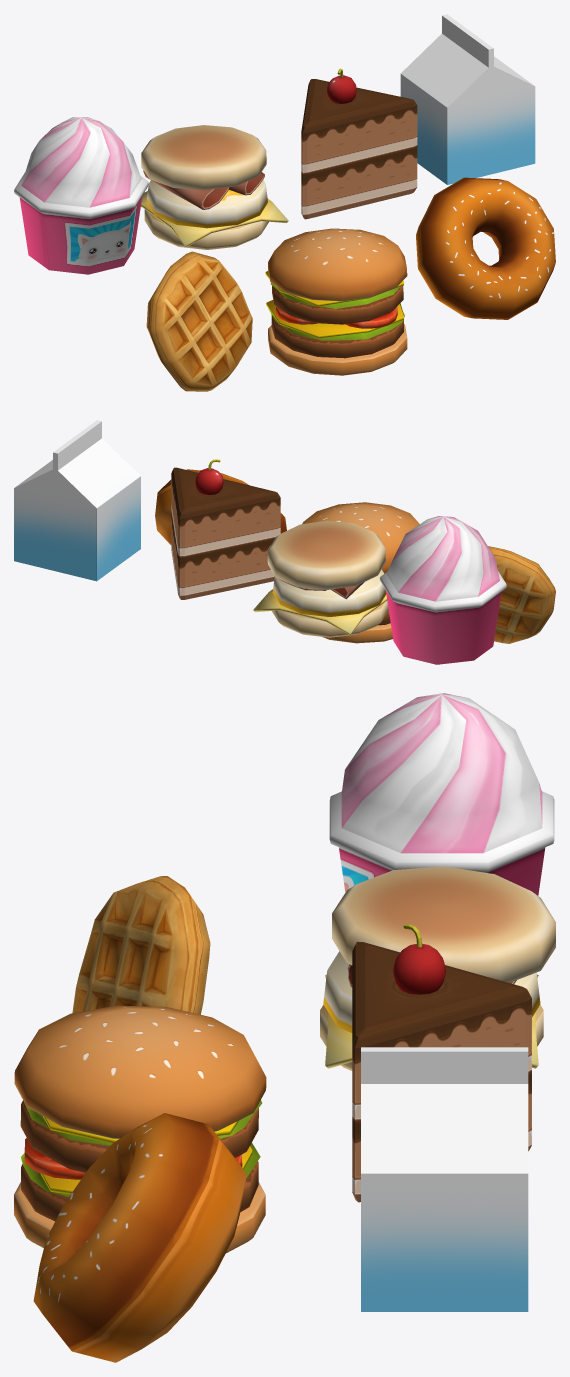
Rendered from 3d_bakery_object.glb.
The picture shows the model from 3 angles, top to bottom: view 1: azimuth 30°, elevation 25°; view 2: azimuth 150°, elevation 25°; view 3: azimuth 270°, elevation 25°; orthographic projection. The views are drawn at different scales.
Visible parts, largest first — view 1: Hambuger_Hambuger_0, IceCream_icecream_0, Milk_Milk_0, Donuts_Donuts_0, Hamegg_Hamegg_0, Cake_Cake_0, Waffle_Waffle_0; view 2: Milk_Milk_0, IceCream_icecream_0, Hamegg_Hamegg_0, Cake_Cake_0, Waffle_Waffle_0, Hambuger_Hambuger_0, Donuts_Donuts_0; view 3: Milk_Milk_0, Hambuger_Hambuger_0, Donuts_Donuts_0, IceCream_icecream_0, Hamegg_Hamegg_0, Cake_Cake_0, Waffle_Waffle_0.
Boxes of the visible parts, x1,y1,x2,y2 form: Hambuger_Hambuger_0: (265,228,407,375); IceCream_icecream_0: (14,117,148,274); Milk_Milk_0: (400,14,535,184); Donuts_Donuts_0: (416,177,555,319); Hamegg_Hamegg_0: (141,125,288,249); Cake_Cake_0: (301,68,417,219); Waffle_Waffle_0: (146,251,252,391); Milk_Milk_0: (14,420,140,581); IceCream_icecream_0: (380,516,506,664); Hamegg_Hamegg_0: (253,520,388,637); Cake_Cake_0: (171,459,280,599); Waffle_Waffle_0: (488,546,555,643); Hambuger_Hambuger_0: (302,502,419,643); Donuts_Donuts_0: (155,469,286,545); Milk_Milk_0: (361,1047,528,1311); Hambuger_Hambuger_0: (14,1005,266,1253); Donuts_Donuts_0: (33,1113,246,1362); IceCream_icecream_0: (329,693,554,895); Hamegg_Hamegg_0: (320,866,555,1070); Cake_Cake_0: (352,924,531,1202); Waffle_Waffle_0: (72,876,210,1014).
Size of the model in its own units: 0.8965 by 0.3706 by 0.4848.
Materials: 7 (7 with a texture image).
